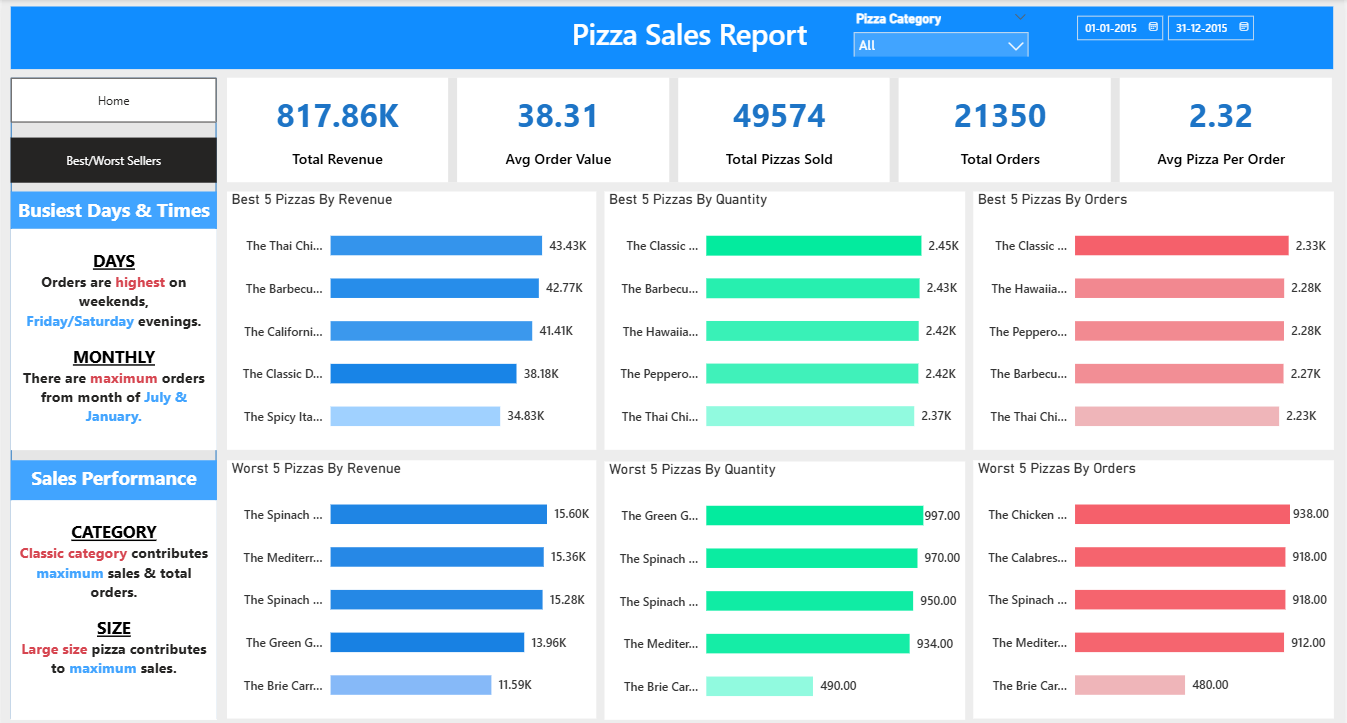

This screenshot's page, from the dashboard's own definition file:
{"tool":"powerbi","page":{"name":"Best/Worst Sellers","canvas":[1500,820],"ordinal":1},"visuals":[{"type":"shape","box":[10,8.6,1478.6,70],"z":0},{"type":"cardVisual","fields":{"Data":["pizza_sales.Total Revenue","pizza_sales.Avg Order Value","pizza_sales.Total Pizzas Sold","pizza_sales.Total Orders","pizza_sales.Avg Pizza Per Order"]},"box":[251.4,88.6,1237.1,117.1],"z":1000},{"type":"textbox","box":[611.4,12.9,312.9,55.7],"z":2000},{"type":"barChart","title":"Best 5 Pizzas By Revenue","fields":{"Category":["pizza_sales.pizza_name"],"Y":["pizza_sales.Total Revenue"]},"box":[251.4,215.7,412.9,288.6],"z":3000},{"type":"shape","box":[10,88.6,230,717.1],"z":4000},{"type":"textbox","box":[9.8,215.2,230.6,41.9],"z":5000},{"type":"textbox","box":[9.8,257.1,230.6,247.3],"z":6000},{"type":"textbox","box":[9.8,515.6,230.6,44.7],"z":7000},{"type":"textbox","box":[9.8,560.4,230.6,245.9],"z":8000},{"type":"slicer","fields":{"Values":["pizza_sales.pizza_category"]},"box":[941.4,8.6,215.7,55.7],"z":9000},{"type":"slicer","fields":{"Values":["pizza_sales.order_date"]},"box":[1188.6,8.6,290,70],"z":10000},{"type":"barChart","title":"Worst 5 Pizzas By Revenue","fields":{"Category":["pizza_sales.pizza_name"],"Y":["pizza_sales.Total Revenue"]},"box":[251.4,515.7,412.9,288.6],"z":12000},{"type":"barChart","title":"Best 5 Pizzas By Quantity","fields":{"Category":["pizza_sales.pizza_name"],"Y":["pizza_sales.Total Pizzas Sold"]},"box":[672.9,215.7,402.9,288.6],"z":13000},{"type":"barChart","title":"Worst 5 Pizzas By Quantity","fields":{"Category":["pizza_sales.pizza_name"],"Y":["pizza_sales.Total Pizzas Sold"]},"box":[672.9,517.1,402.9,288.6],"z":14000},{"type":"barChart","title":"Best 5 Pizzas By Orders","fields":{"Category":["pizza_sales.pizza_name"],"Y":["pizza_sales.Total Orders"]},"box":[1085.7,215.7,402.9,288.6],"z":15000},{"type":"barChart","title":"Worst 5 Pizzas By Orders","fields":{"Category":["pizza_sales.pizza_name"],"Y":["pizza_sales.Total Orders"]},"box":[1085.7,515.7,402.9,288.6],"z":15001},{"type":"pageNavigator","box":[10,88.6,230,50],"z":15002},{"type":"pageNavigator","box":[10,155.7,230,50],"z":15003}]}

Visuals, with their boxes in screenshot pixels (x1, y1, x2, y2), scaled from the page's 1500x820 canvas onto the 1347x723 screenshot:
shape: region(9, 8, 1337, 69)
cardVisual - pizza_sales.Total Revenue x pizza_sales.Avg Order Value: region(226, 78, 1337, 181)
textbox: region(549, 11, 830, 60)
"Best 5 Pizzas By Revenue" barChart: region(226, 190, 597, 445)
shape: region(9, 78, 216, 710)
textbox: region(9, 190, 216, 227)
textbox: region(9, 227, 216, 445)
textbox: region(9, 455, 216, 494)
textbox: region(9, 494, 216, 711)
slicer - pizza_sales.pizza_category: region(845, 8, 1039, 57)
slicer - pizza_sales.order_date: region(1067, 8, 1328, 69)
"Worst 5 Pizzas By Revenue" barChart: region(226, 455, 597, 709)
"Best 5 Pizzas By Quantity" barChart: region(604, 190, 966, 445)
"Worst 5 Pizzas By Quantity" barChart: region(604, 456, 966, 710)
"Best 5 Pizzas By Orders" barChart: region(975, 190, 1337, 445)
"Worst 5 Pizzas By Orders" barChart: region(975, 455, 1337, 709)
pageNavigator: region(9, 78, 216, 122)
pageNavigator: region(9, 137, 216, 181)
